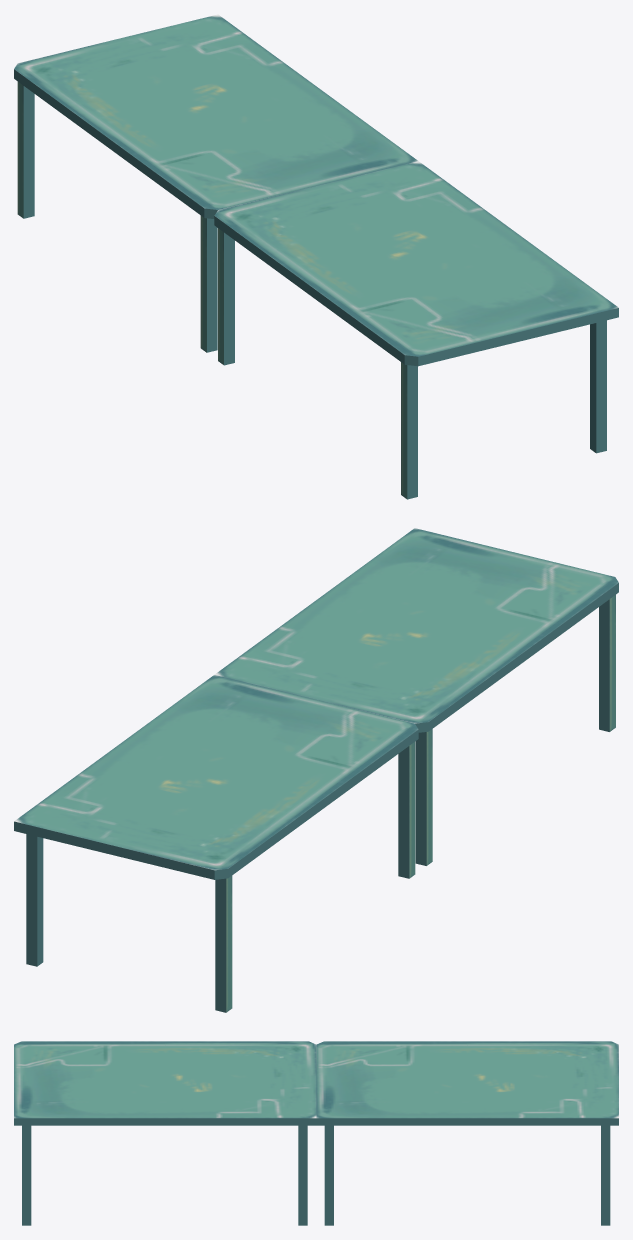
Rendered from Tables_4_casey2.fbx.
3 views of the same model, one above another, from view 1: azimuth 30°, elevation 25°; view 2: azimuth 150°, elevation 25°; view 3: azimuth 270°, elevation 25° (orthographic). The views are drawn at different scales.
Parts seen in each view (by area): view 1: Table_4, Table_2, Table_1, Table_5; view 2: Table_1, Table_5, Table_2, Table_4; view 3: Table_1, Table_4, Table_2, Table_5.
Part boxes in pixels (bbox=[...]): Table_4: bbox=[309, 234, 618, 499]; Table_2: bbox=[109, 88, 417, 352]; Table_1: bbox=[14, 14, 317, 218]; Table_5: bbox=[214, 161, 518, 365]; Table_1: bbox=[14, 748, 323, 1012]; Table_5: bbox=[214, 601, 523, 865]; Table_2: bbox=[114, 675, 418, 878]; Table_4: bbox=[315, 528, 618, 731]; Table_1: bbox=[467, 1041, 618, 1225]; Table_4: bbox=[14, 1041, 165, 1225]; Table_2: bbox=[316, 1041, 467, 1225]; Table_5: bbox=[165, 1041, 316, 1225].
Bounding box in the file's own units: 121 × 80 × 400.
